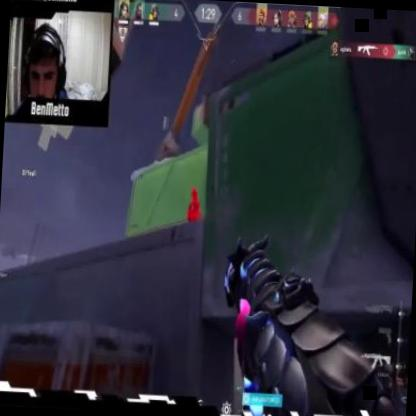enemy: (184, 186, 202, 240)
enemy_head: (190, 188, 198, 201)
